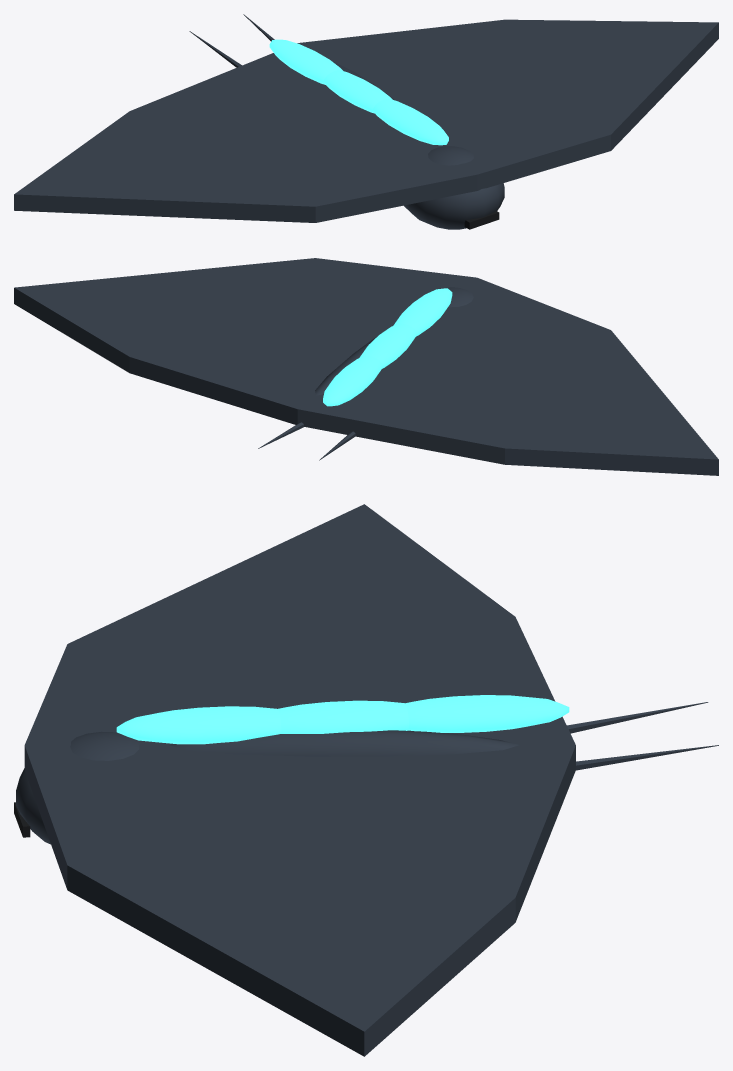
Rendered from XCOM_Floater.fbx.
3 renders of one model, top to bottom at view 1: azimuth 30°, elevation 25°; view 2: azimuth 150°, elevation 25°; view 3: azimuth 270°, elevation 25°, orthographic. The views are drawn at different scales.
Visible parts, largest first — view 1: XCOM_Floater; view 2: XCOM_Floater; view 3: XCOM_Floater.
Boxes of the visible parts, left/top/right/bottom form: XCOM_Floater: left=14, top=14, right=718, bottom=229; XCOM_Floater: left=14, top=258, right=718, bottom=475; XCOM_Floater: left=14, top=504, right=718, bottom=1056.
Size of the model in its own units: 2.48 by 0.2898 by 1.4.
